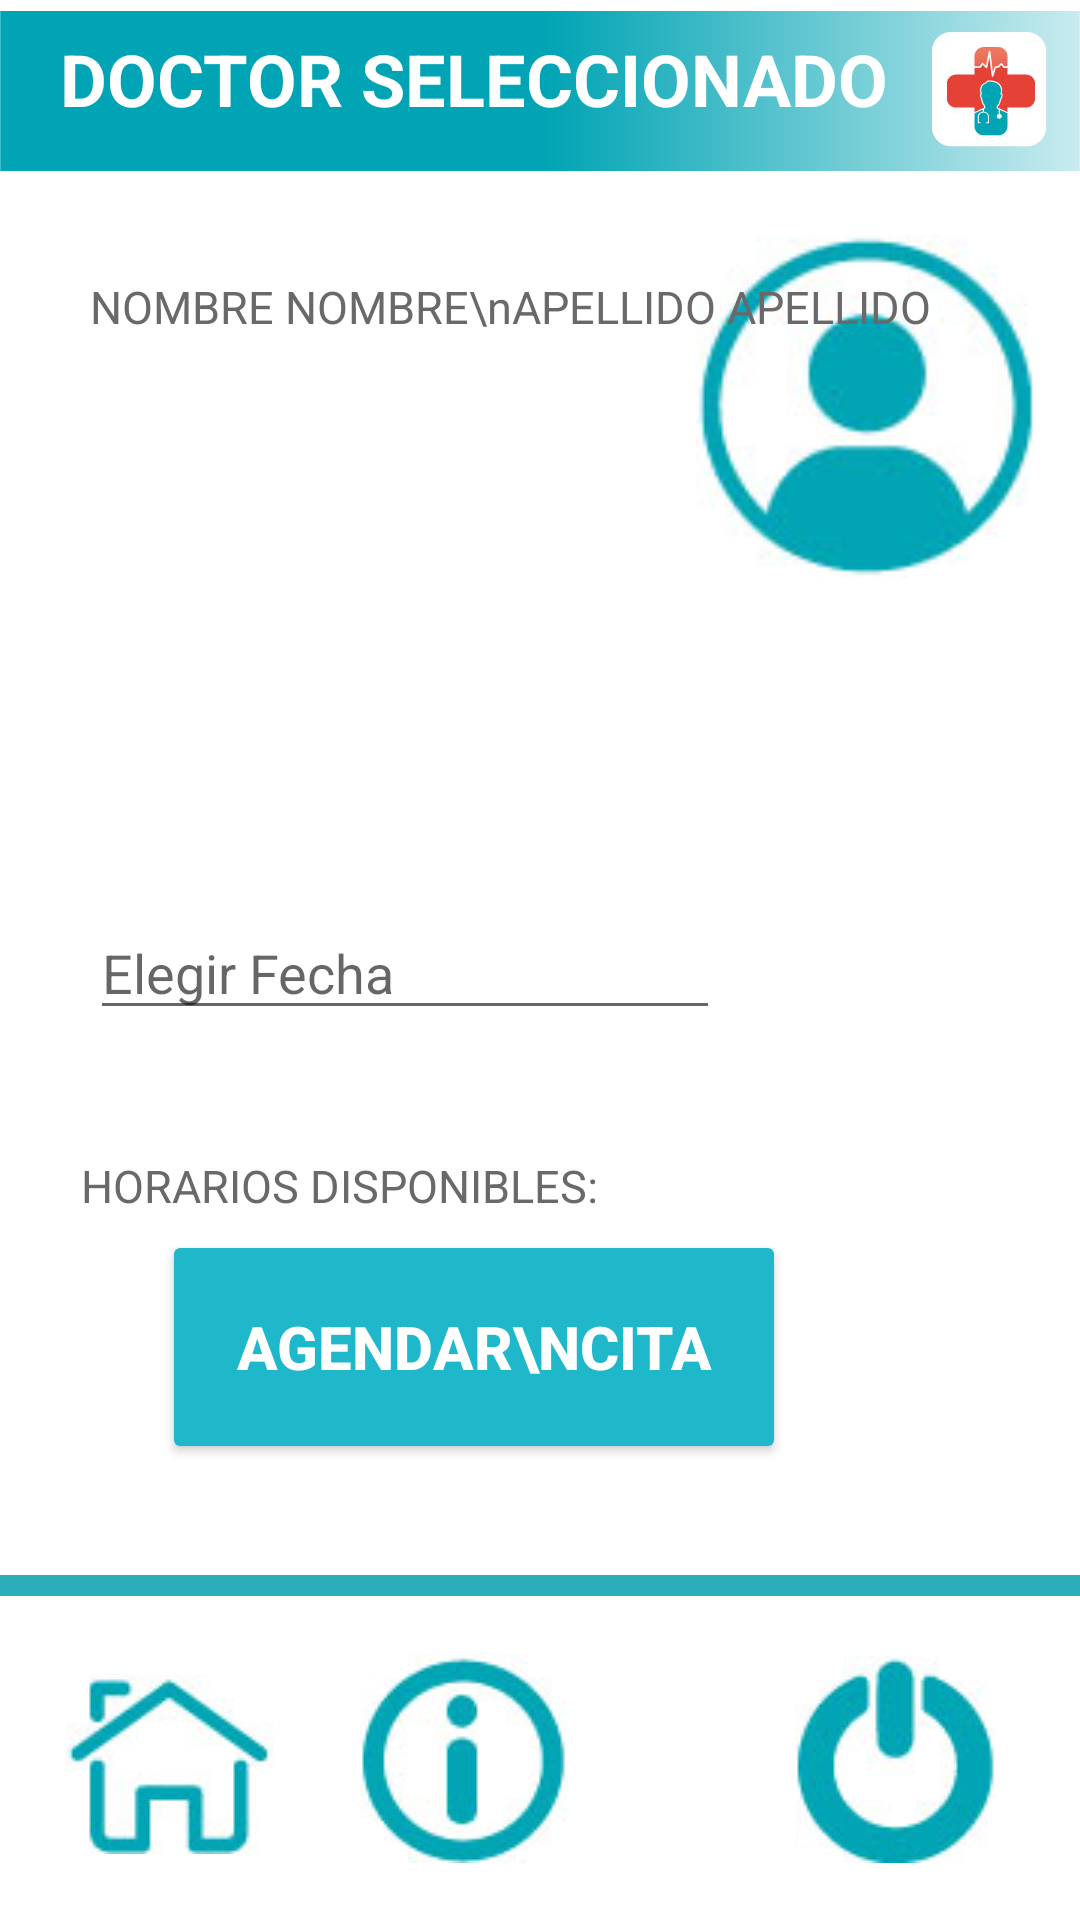

Screen size 1080w x 1920h. Icon name, then its box in pixels as (x1, y1, x2, y2):
apagar: (797, 1658, 994, 1863)
info: (362, 1658, 565, 1863)
inicio: (68, 1679, 273, 1854)
